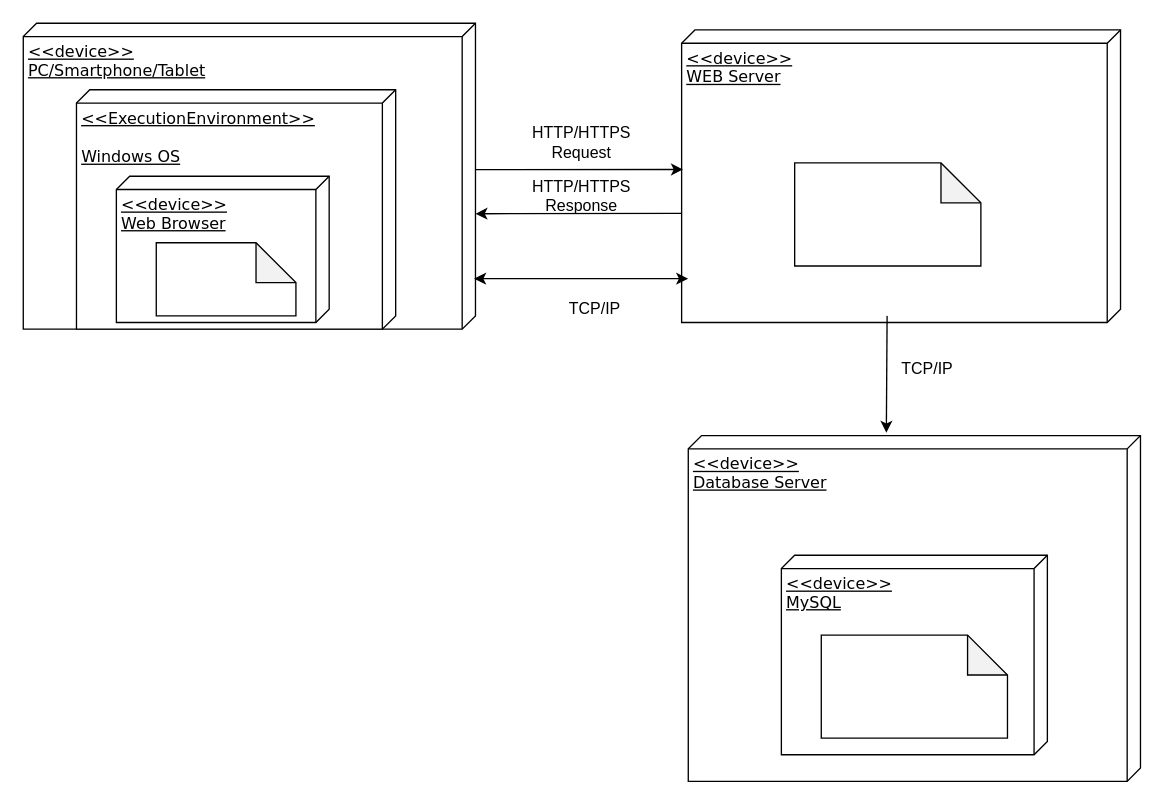
Image size: 1164x805. Some labels were removed from this diagram. Here are the shapes that lost their labels. From the top down, the centre of each, then its label:
[887,214]: <<artifact>> Index.php
[225,278]: <<artifact>> HTML5 Player
[913,686]: <<artifact>> MySQL database
